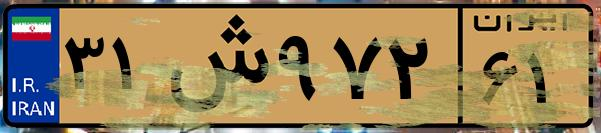1: (525, 38, 570, 115), (110, 28, 158, 98)
2: (385, 28, 445, 110)
3: (57, 26, 110, 100)
6: (475, 38, 525, 113)
7: (330, 28, 385, 110)
9: (270, 28, 330, 110)
ش: (158, 12, 270, 120)
